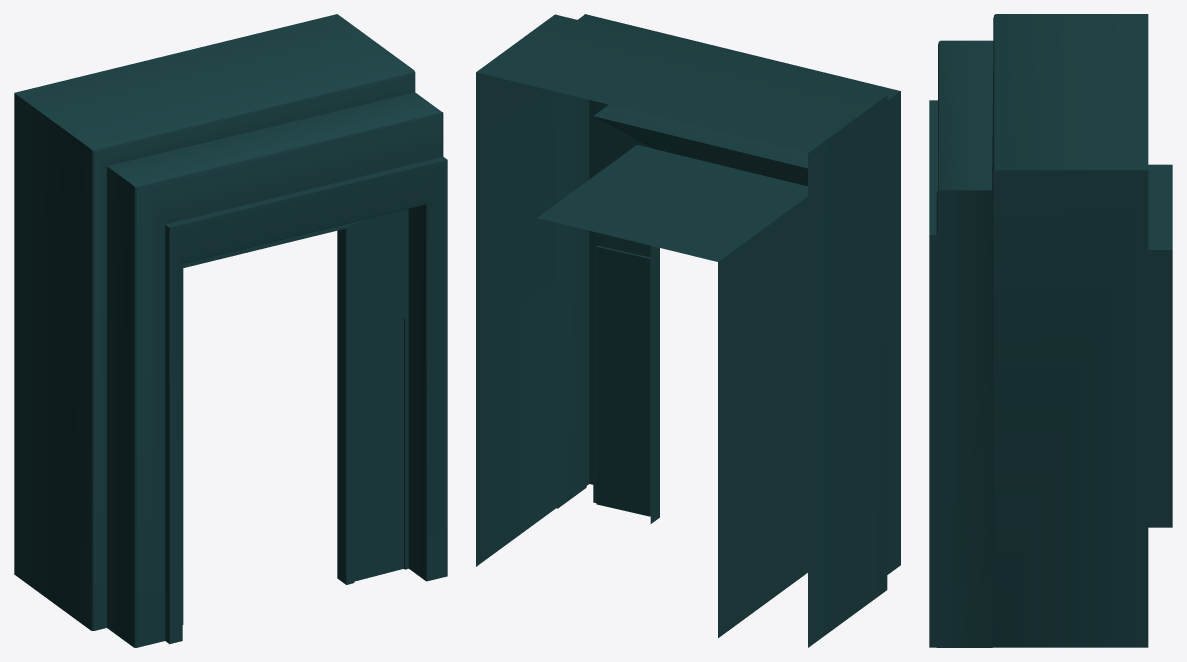
Rendered from elevator.glb.
3 views of the same model, side by side, from view 1: azimuth 30°, elevation 25°; view 2: azimuth 150°, elevation 25°; view 3: azimuth 270°, elevation 25° (orthographic). The views are drawn at different scales.
Parts seen in each view (by area): view 1: main body; view 2: main body; view 3: main body.
Boxes of the visible parts, bbox=[...] form: main body: bbox=[14, 14, 447, 647]; main body: bbox=[476, 14, 900, 647]; main body: bbox=[929, 14, 1172, 647].
Bounding box in the file's own units: 4.78 × 6.82 × 3.15.
